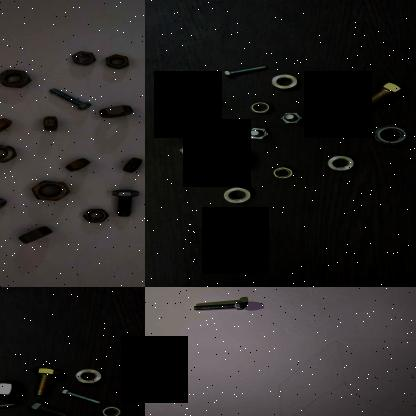Bolts: (348, 76, 413, 112), (188, 294, 252, 316), (43, 84, 91, 110), (28, 364, 64, 398), (177, 136, 221, 162), (224, 58, 275, 80), (110, 188, 142, 218), (28, 400, 74, 416), (302, 82, 336, 102), (61, 388, 100, 404), (278, 108, 308, 126), (244, 126, 273, 140), (0, 185, 11, 212), (197, 92, 221, 104), (0, 401, 16, 413)
NUTS: (370, 121, 414, 145), (30, 179, 72, 201), (15, 224, 56, 245), (220, 183, 258, 204), (71, 364, 109, 384), (0, 66, 33, 88), (324, 151, 358, 172), (228, 150, 258, 172), (94, 103, 140, 117), (268, 72, 302, 90), (269, 162, 297, 183), (69, 48, 100, 66), (82, 205, 112, 223), (60, 158, 96, 172), (120, 153, 145, 173), (249, 97, 275, 115), (106, 52, 130, 70), (41, 113, 63, 130), (0, 143, 16, 162), (0, 115, 16, 131)
